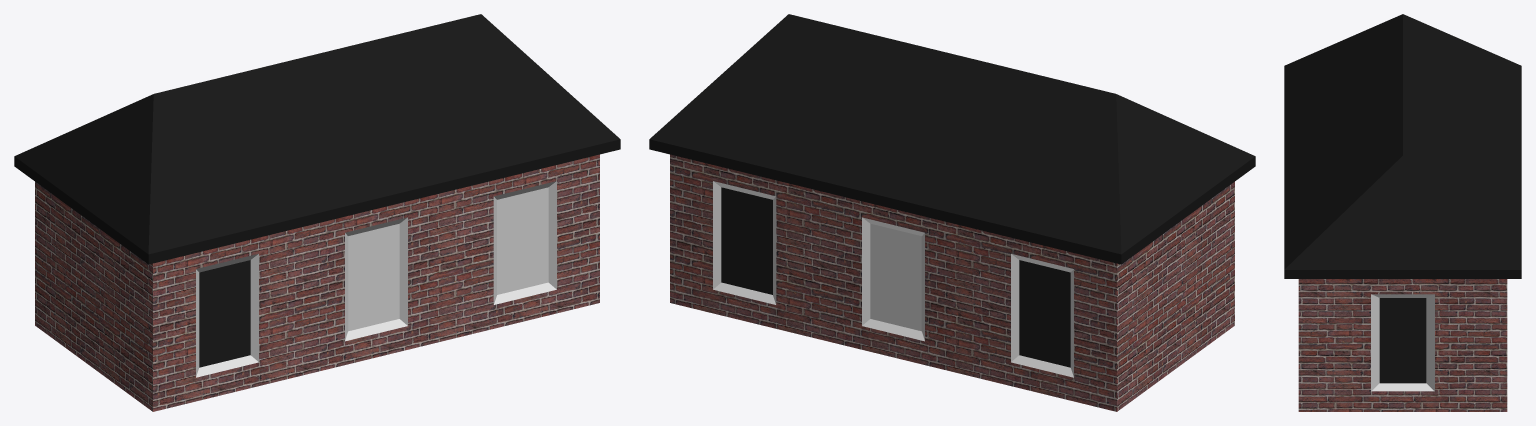
Rendered from roofTop.fbx.
3 renders of one model, left to right at view 1: azimuth 30°, elevation 25°; view 2: azimuth 150°, elevation 25°; view 3: azimuth 270°, elevation 25°, orthographic. The views are drawn at different scales.
Parts seen in each view (by area): view 1: Cube; view 2: Cube; view 3: Cube.
Part boxes in pixels (x1=…): Cube: x1=14, y1=14, x2=620, y2=411; Cube: x1=649, y1=14, x2=1255, y2=411; Cube: x1=1284, y1=14, x2=1521, y2=411.
Size of the model in its own units: 692 by 365 by 340.
